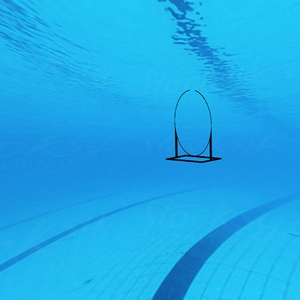circle: (166, 85, 222, 168)
